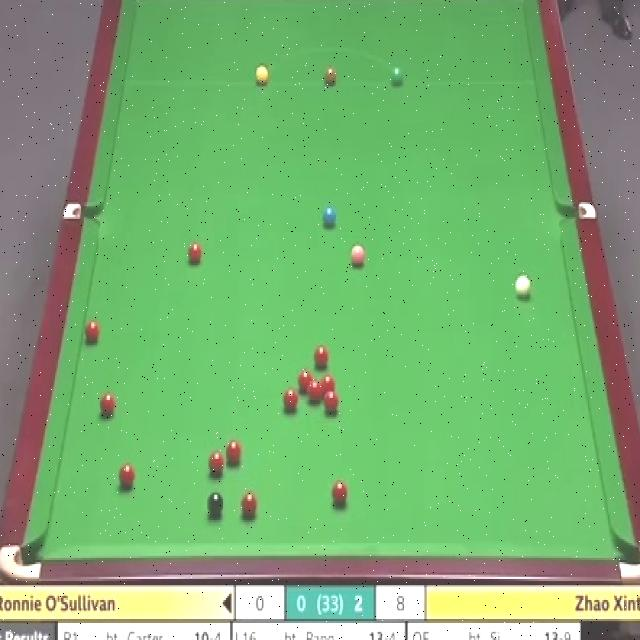black-ball: (207, 491, 226, 515)
blue-ball: (322, 204, 337, 231)
brown-ball: (323, 65, 337, 85)
green-ball: (391, 66, 404, 85)
pink-ball: (350, 246, 366, 269)
red-ball: (330, 477, 349, 509), (82, 319, 102, 347), (240, 490, 258, 519), (114, 462, 134, 488), (97, 389, 115, 417), (296, 367, 314, 394), (225, 441, 242, 467), (312, 345, 331, 368), (209, 450, 226, 475), (321, 376, 336, 400), (283, 386, 298, 410), (307, 381, 323, 403), (188, 244, 202, 263), (316, 392, 331, 409)
white-ball: (514, 272, 531, 300)
yellow-ball: (255, 65, 269, 85)
